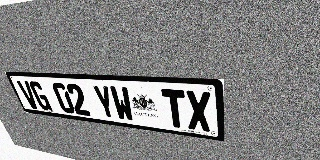0: (51, 82, 76, 114)
2: (65, 83, 91, 116)
G: (28, 81, 53, 111)
T: (161, 89, 188, 129)
V: (16, 80, 41, 109)
W: (109, 86, 135, 122)
X: (185, 90, 212, 132)
Y: (91, 85, 118, 120)
